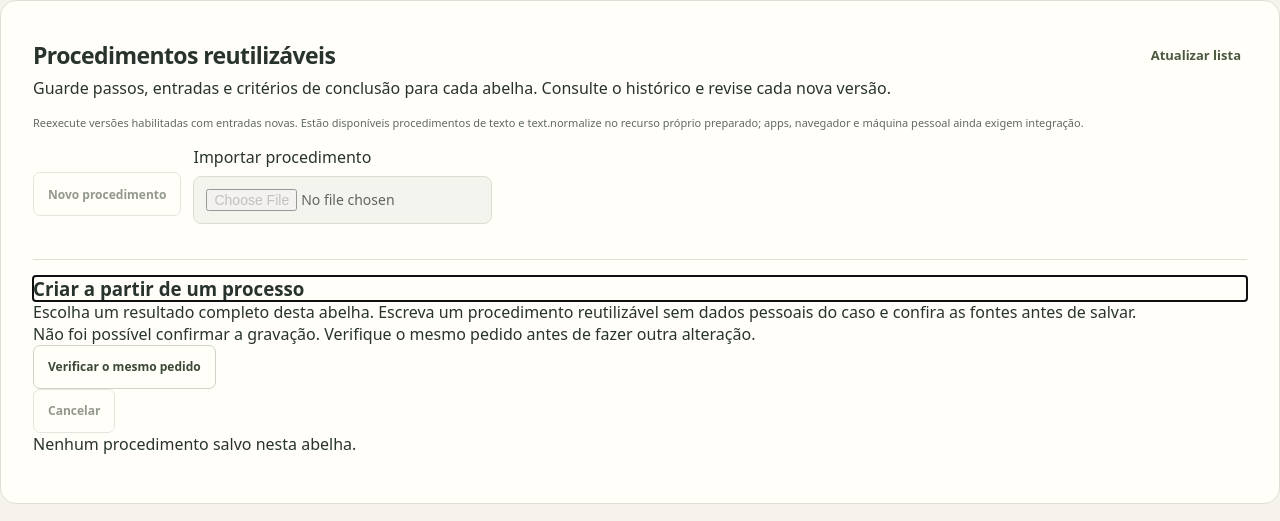
Test: process conversion with explicit review › recovers a lost response after remount with the same UUID and payload
Expected: the button "Novo procedimento" is disabled, [33,172,182,216]
Click the button "Verificar o mesmo pedido" at (124, 367), box [33,345,216,389]
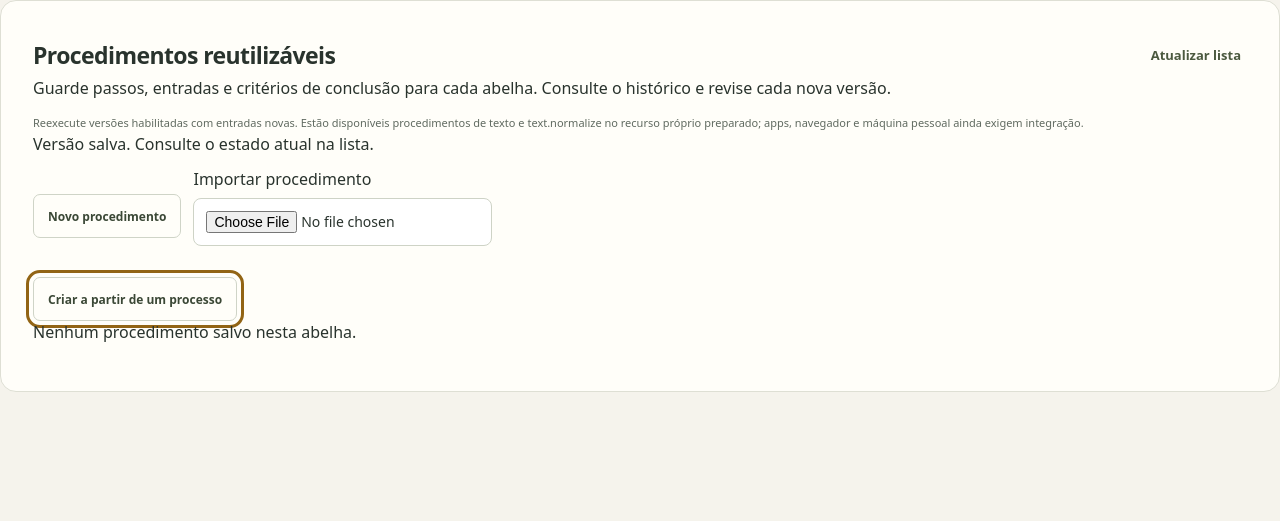
Result: the text "Versão salva" is shown at [33,133,374,155]
